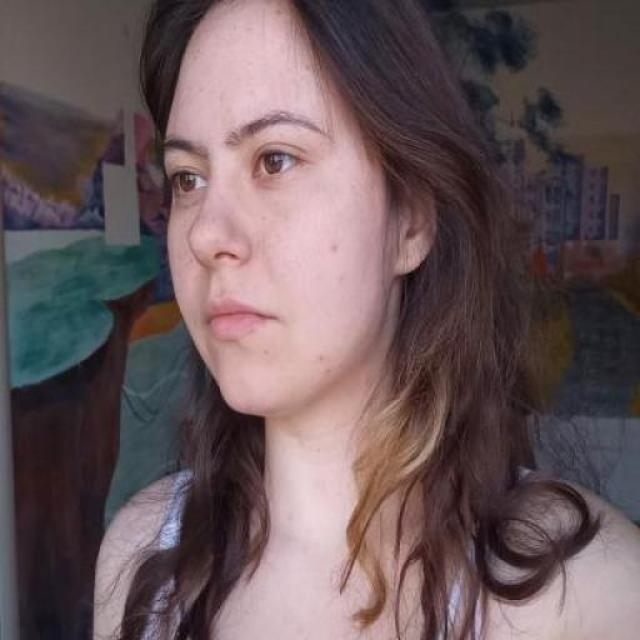Acne: (314, 352, 342, 390), (330, 242, 345, 258)
